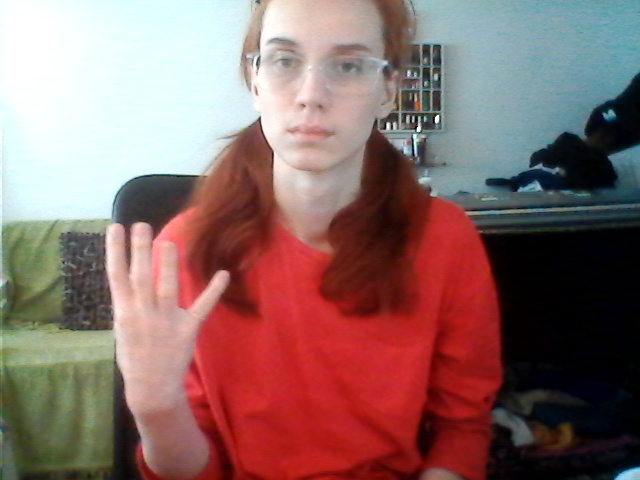kedy: (93, 211, 235, 406)
